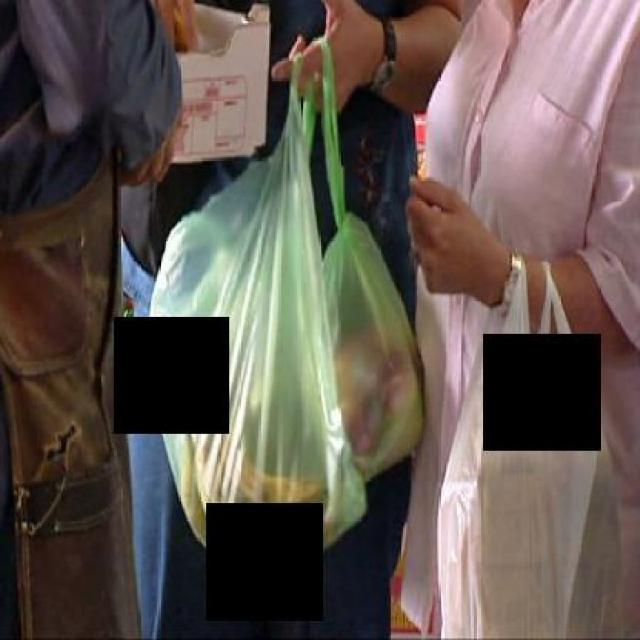plastic bag: (138, 40, 436, 588), (438, 251, 620, 638)
